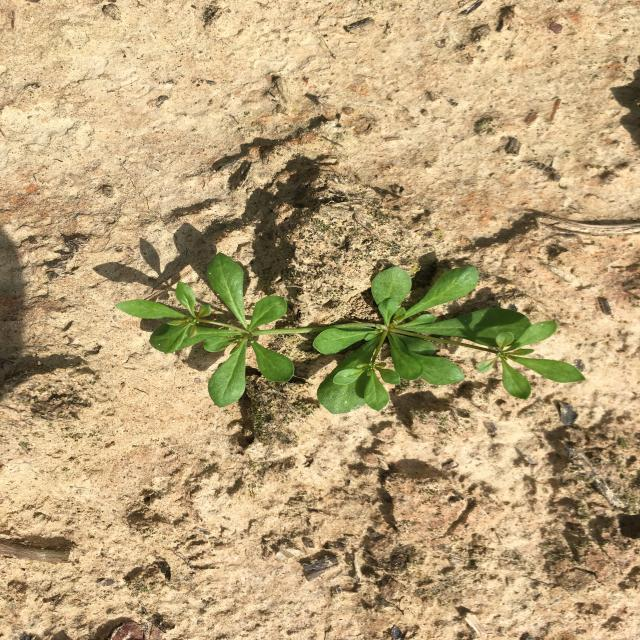Carpetweed: (115, 252, 586, 414)
